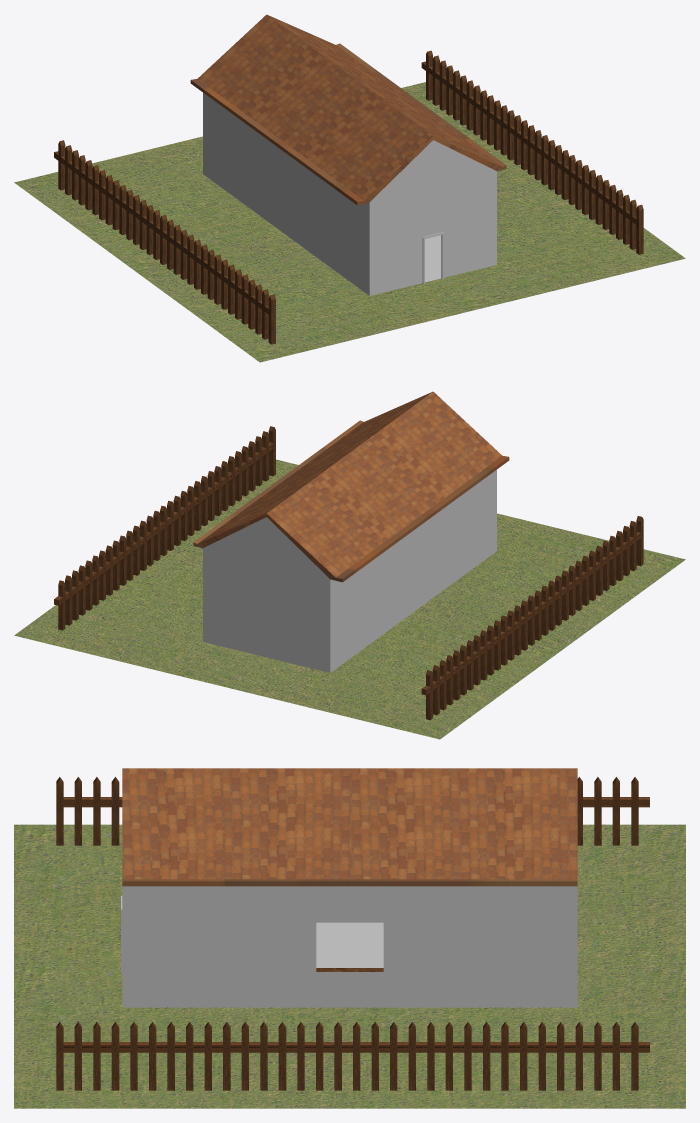
Rendered from House03.fbx.
3 renders of one model, top to bottom at view 1: azimuth 30°, elevation 25°; view 2: azimuth 150°, elevation 25°; view 3: azimuth 270°, elevation 25°, orthographic. The views are drawn at different scales.
Parts seen in each view (by area): view 1: House; view 2: House; view 3: House.
Boxes of the visible parts, bbox=[...] form: House: bbox=[14, 14, 685, 362]; House: bbox=[14, 391, 685, 739]; House: bbox=[14, 768, 685, 1108].
Size of the model in its own units: 2000 by 651 by 2000.
